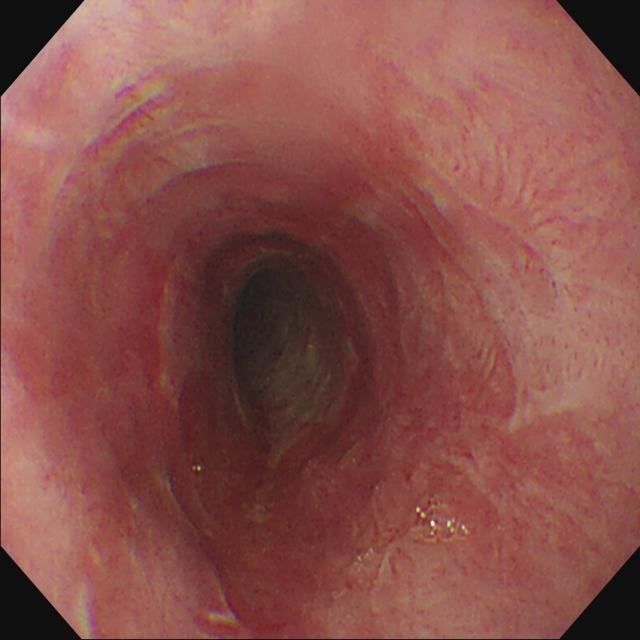A: (241, 425, 560, 640), (357, 216, 640, 415)
E: (234, 272, 342, 403)
